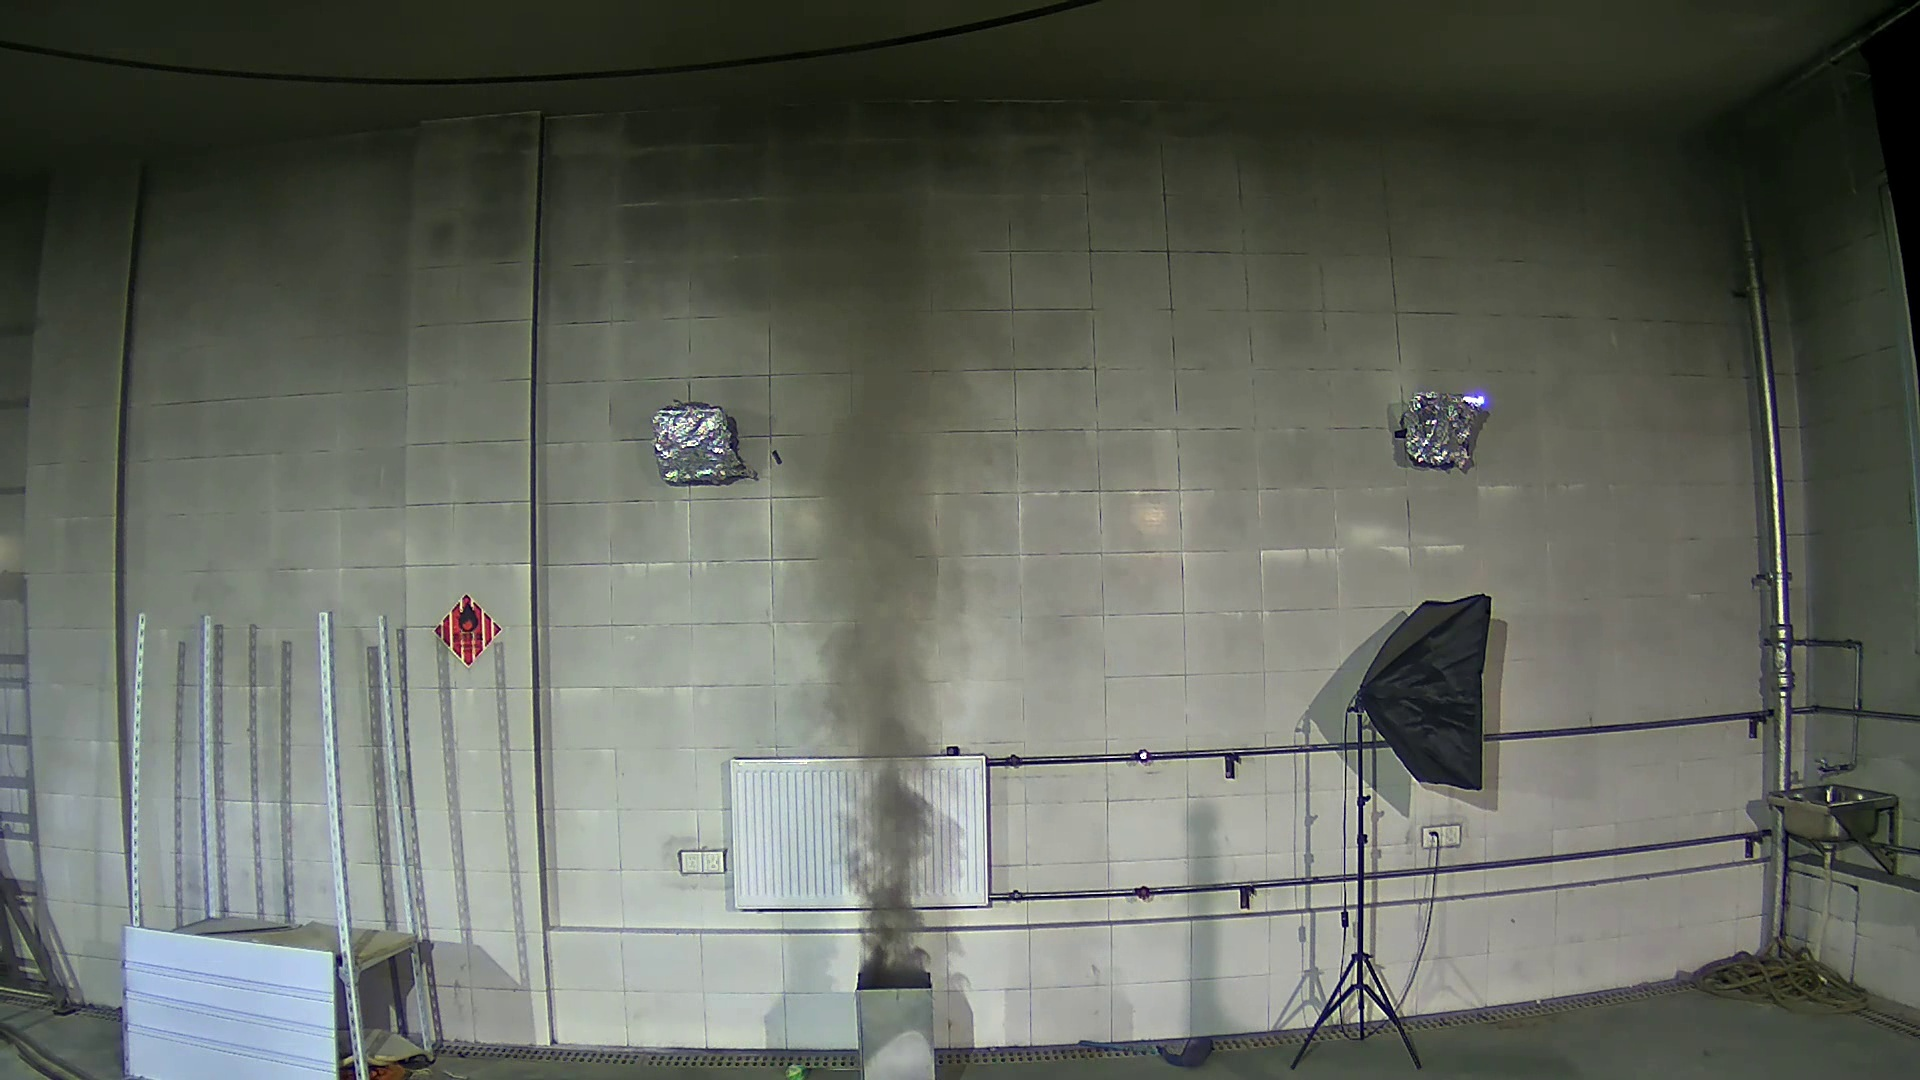smoke: (748, 386, 981, 961)
